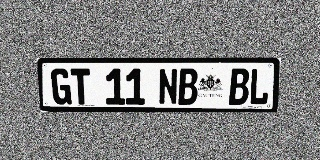1: (105, 68, 125, 105), (125, 68, 145, 105)
B: (229, 68, 250, 105), (178, 68, 198, 105)
G: (50, 68, 72, 105)
L: (248, 68, 270, 105)
N: (158, 68, 178, 105)
T: (70, 68, 91, 105)
